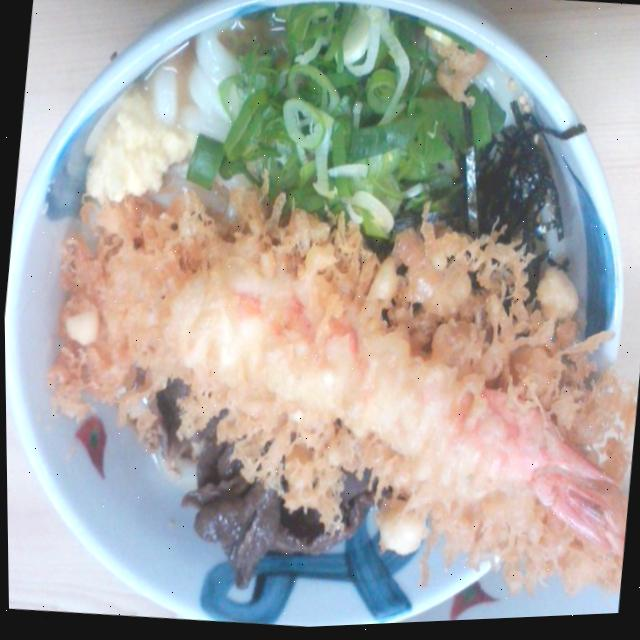面条主食: (29, 0, 626, 587)
